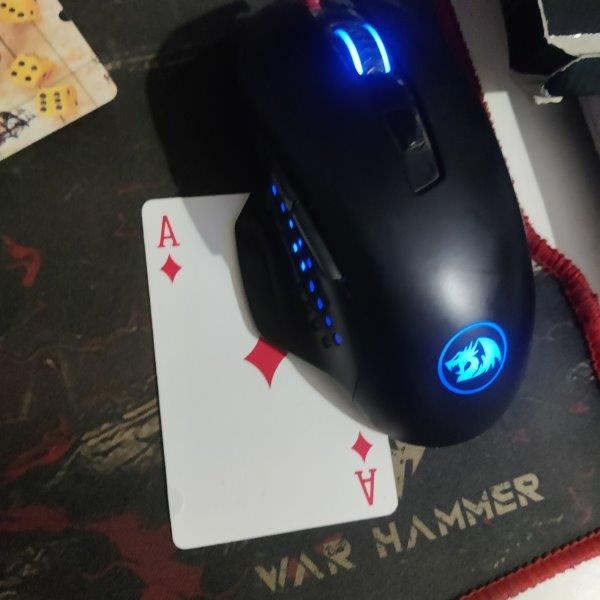Ace of Diamonds: (141, 192, 398, 550)
